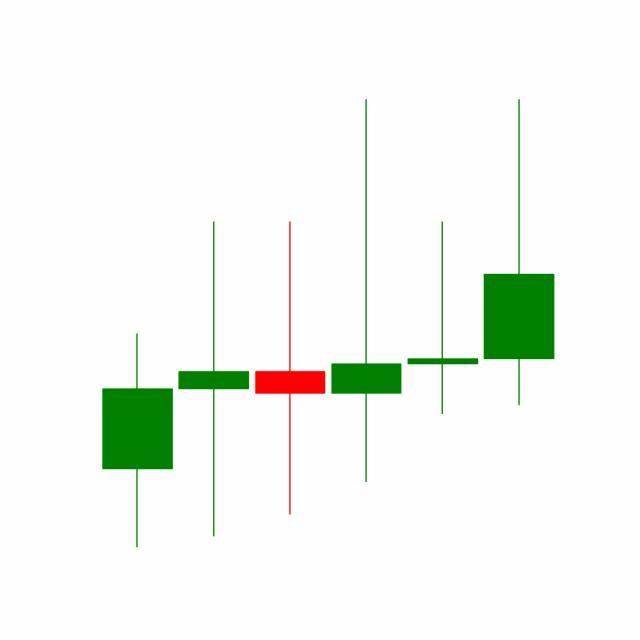Spinning Top: (404, 219, 482, 417)
